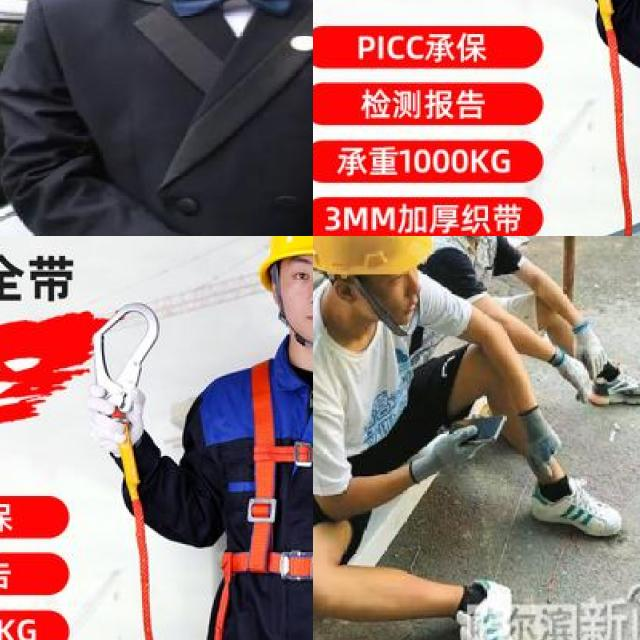Harness: (204, 358, 313, 640)
No_Glasses: (288, 261, 313, 290)
face_nomask: (349, 262, 432, 328)
hand_glove: (434, 425, 486, 473), (523, 424, 558, 476), (558, 353, 592, 404), (574, 335, 608, 379)
head_helmet: (313, 236, 434, 277)
person: (313, 236, 552, 640), (0, 0, 313, 236), (392, 236, 640, 424)
shoes: (525, 470, 625, 544), (454, 579, 517, 640), (582, 366, 640, 408)
